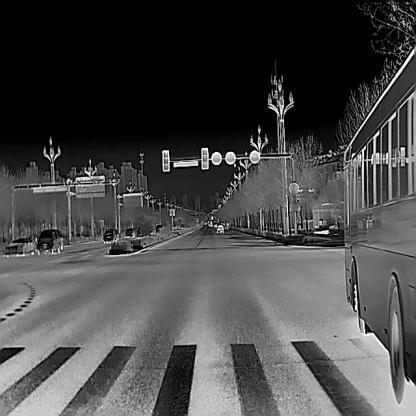car: (342, 44, 416, 403), (35, 229, 63, 255), (3, 235, 35, 256), (103, 227, 119, 243), (124, 226, 134, 238), (216, 224, 224, 234)
